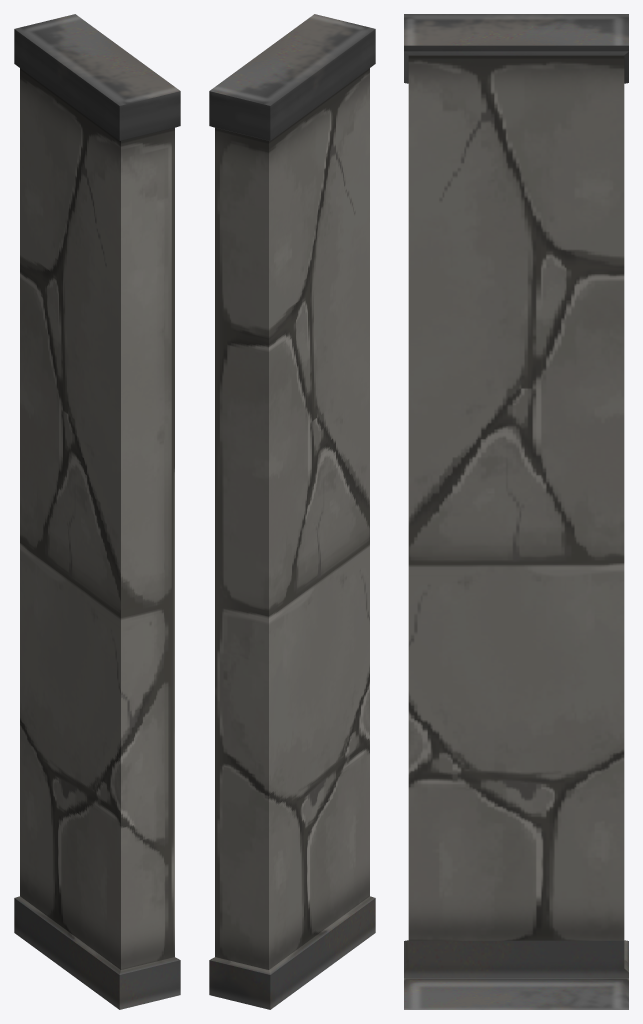
The model's file is SM_pillarLill.fbx.
3 renders of one model, left to right at view 1: azimuth 30°, elevation 25°; view 2: azimuth 150°, elevation 25°; view 3: azimuth 270°, elevation 25°, orthographic. The views are drawn at different scales.
Visible parts, largest first — view 1: SM_pillarLill; view 2: SM_pillarLill; view 3: SM_pillarLill.
Part boxes in pixels (<box>): SM_pillarLill: <box>14,14,180,1009</box>; SM_pillarLill: <box>209,14,375,1009</box>; SM_pillarLill: <box>404,14,628,1009</box>.
Size of the model in its own units: 0.394 by 5.57 by 1.18.
